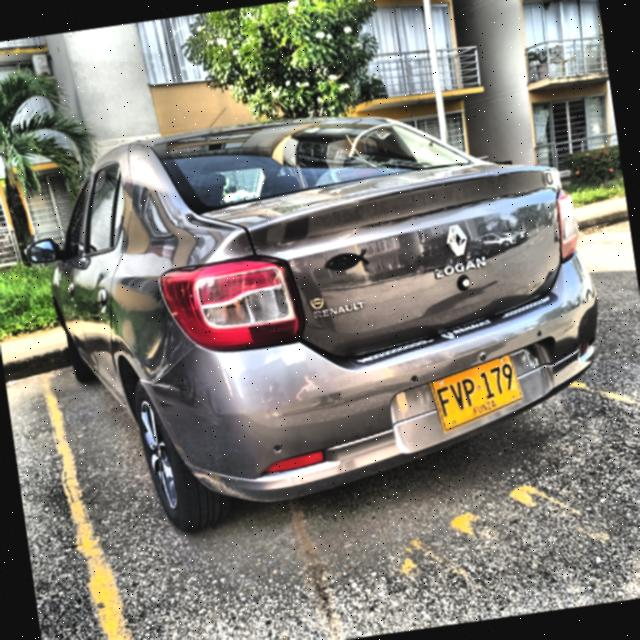1: (478, 369, 498, 401)
7: (488, 364, 507, 396)
9: (500, 361, 516, 393)
F: (435, 385, 455, 419)
P: (460, 375, 479, 409)
V: (448, 380, 467, 413)
